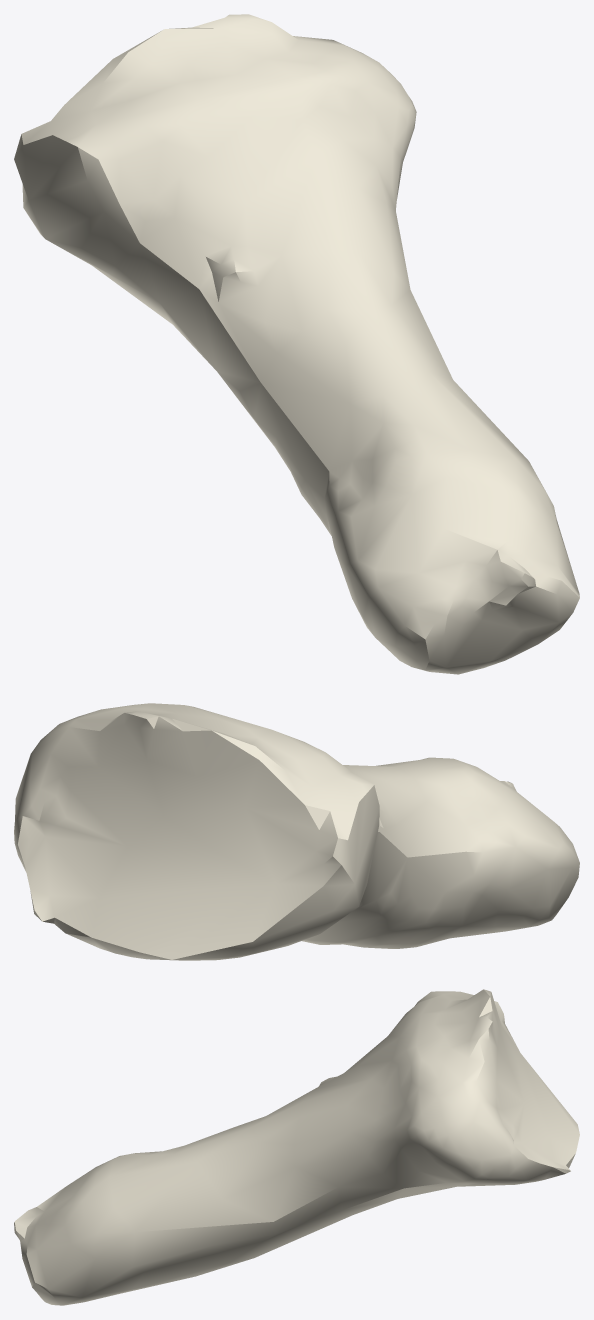
The model's file is fma24462_mm1889.glb.
3 views of the same model, one above another, from view 1: azimuth 30°, elevation 25°; view 2: azimuth 150°, elevation 25°; view 3: azimuth 270°, elevation 25° (orthographic). The views are drawn at different scales.
Visible parts, largest first — view 1: FMA24462_MM1889; view 2: FMA24462_MM1889; view 3: FMA24462_MM1889.
Part boxes in pixels (<box>): FMA24462_MM1889: <box>14,14,579,674</box>; FMA24462_MM1889: <box>14,703,579,960</box>; FMA24462_MM1889: <box>14,989,579,1305</box>.
Bounding box in the file's own units: 0.00842 × 0.0094 × 0.0161.
